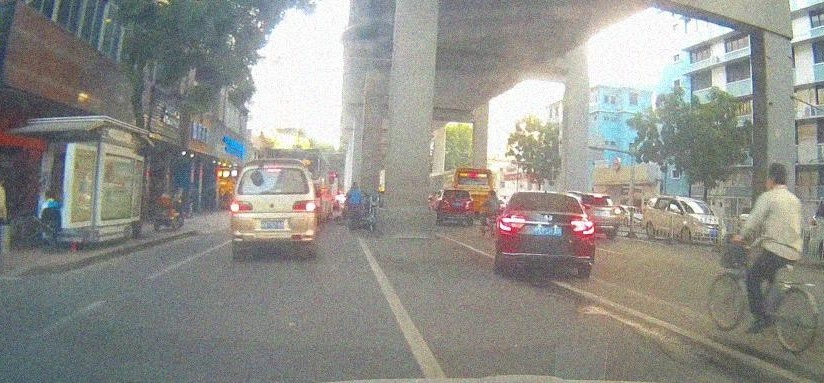L_light: (499, 216, 526, 232), (232, 199, 253, 212)
R_light: (570, 220, 594, 235), (294, 200, 318, 212)
T_light: (268, 169, 282, 172), (540, 193, 553, 196)
day-brake: (231, 159, 318, 259)
day-right: (494, 191, 595, 279)
